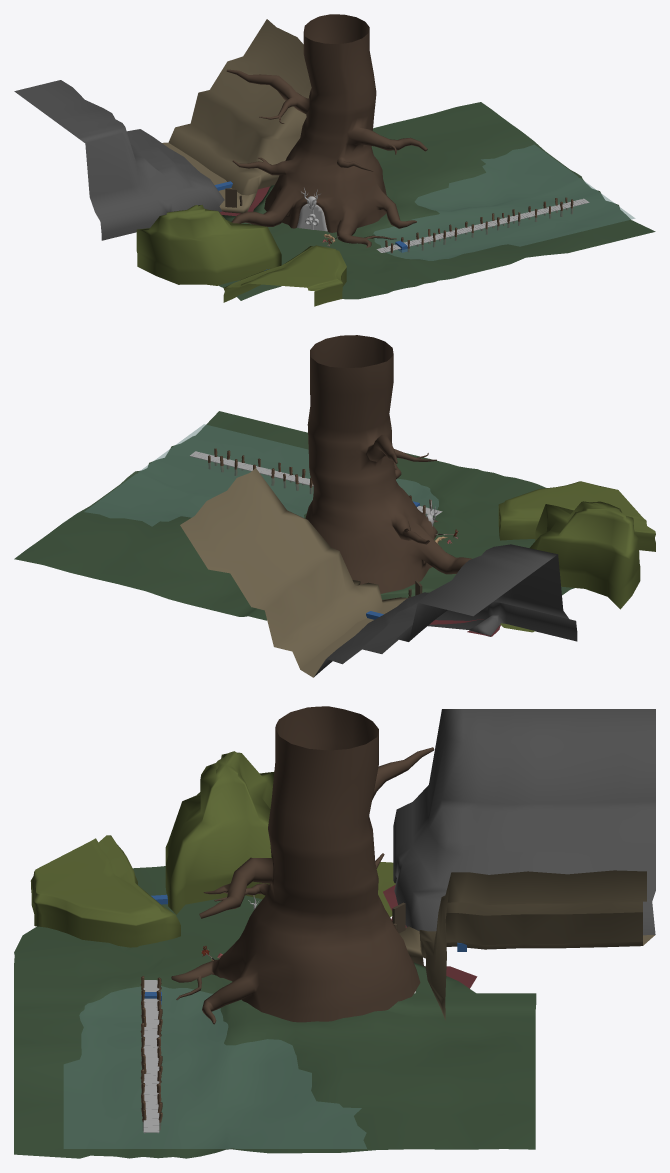
Rendered from Level_2_hub_REDO_final.fbx.
3 views of the same model, one above another, from view 1: azimuth 30°, elevation 25°; view 2: azimuth 150°, elevation 25°; view 3: azimuth 270°, elevation 25° (orthographic). The views are drawn at different scales.
Visible parts, largest first — view 1: grass_wetlands1, tree_trunk, water, mountain_1, mountain_2, mountain_entrance, hill, bridge_lp11, bridge_branch_31, path_mountain, tree_door; view 2: grass_wetlands1, tree_trunk, mountain_1, mountain_2, water, mountain_entrance, hill, path_mountain, bridge_lp11, bridge_branch_31; view 3: grass_wetlands1, tree_trunk, mountain_2, water, mountain_1, mountain_entrance, hill, bridge_lp11, bridge_branch_31.
Boxes of the visible parts, x1,y1,x2,y2 form: grass_wetlands1: [218, 102, 655, 300]; tree_trunk: [226, 14, 427, 247]; water: [373, 144, 635, 260]; mountain_1: [168, 19, 311, 195]; mountain_2: [14, 80, 224, 240]; mountain_entrance: [136, 205, 281, 285]; hill: [223, 245, 346, 306]; bridge_lp11: [376, 198, 589, 252]; bridge_branch_31: [385, 197, 573, 253]; path_mountain: [162, 142, 256, 213]; tree_door: [296, 204, 327, 231]; grass_wetlands1: [14, 411, 574, 620]; tree_trunk: [305, 335, 471, 593]; mountain_1: [180, 468, 383, 669]; mountain_2: [314, 544, 577, 676]; water: [84, 424, 438, 526]; mountain_entrance: [529, 501, 640, 609]; hill: [498, 481, 655, 551]; path_mountain: [300, 597, 407, 677]; bridge_lp11: [190, 451, 442, 515]; bridge_branch_31: [208, 448, 432, 514]; grass_wetlands1: [14, 866, 536, 1158]; tree_trunk: [171, 706, 434, 1024]; mountain_2: [393, 709, 655, 935]; water: [63, 986, 366, 1148]; mountain_1: [419, 870, 646, 1020]; mountain_entrance: [165, 751, 274, 914]; hill: [30, 835, 180, 947]; bridge_lp11: [143, 980, 159, 1133]; bridge_branch_31: [140, 976, 162, 1130].
Size of the model in its own units: 77.62 by 32.76 by 66.28.
